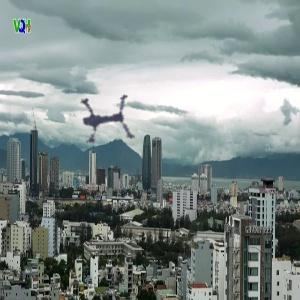drone: (61, 83, 138, 160)
